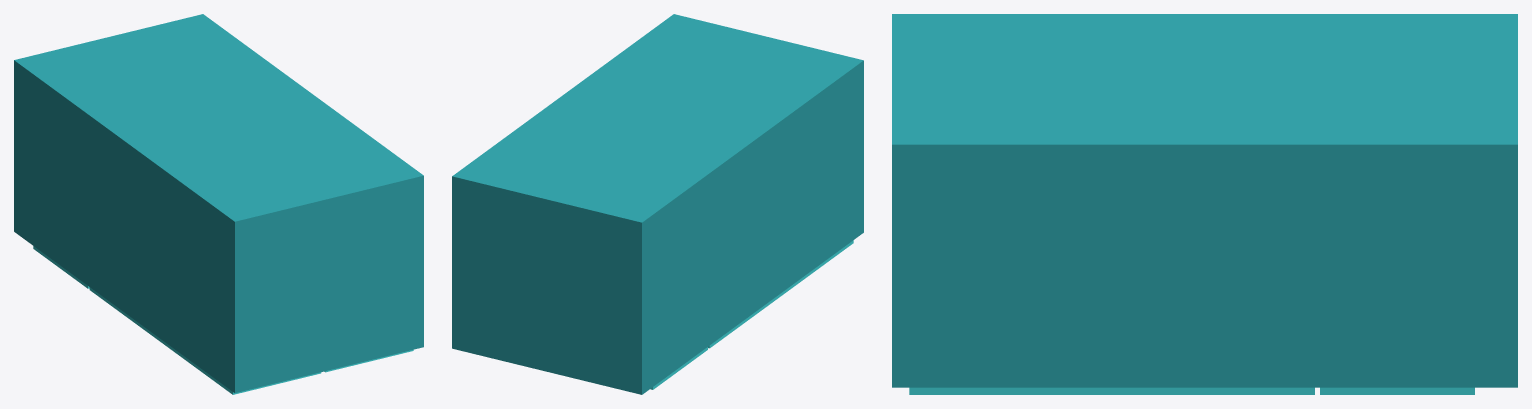
The model's file is refrigerator.glb.
3 renders of one model, left to right at view 1: azimuth 30°, elevation 25°; view 2: azimuth 150°, elevation 25°; view 3: azimuth 270°, elevation 25°, orthographic. The views are drawn at different scales.
Visible parts, largest first — view 1: world; view 2: world; view 3: world.
Part boxes in pixels (bbox=[...]): world: bbox=[14, 14, 423, 394]; world: bbox=[452, 14, 863, 394]; world: bbox=[892, 14, 1517, 394].
Bounding box in the file's own units: 0.9 × 0.8425 × 1.82.
